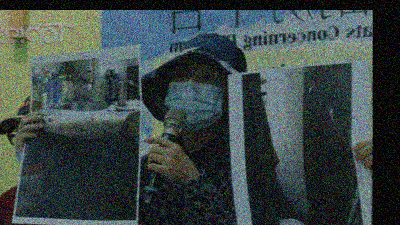with_mask: (163, 66, 227, 131)
